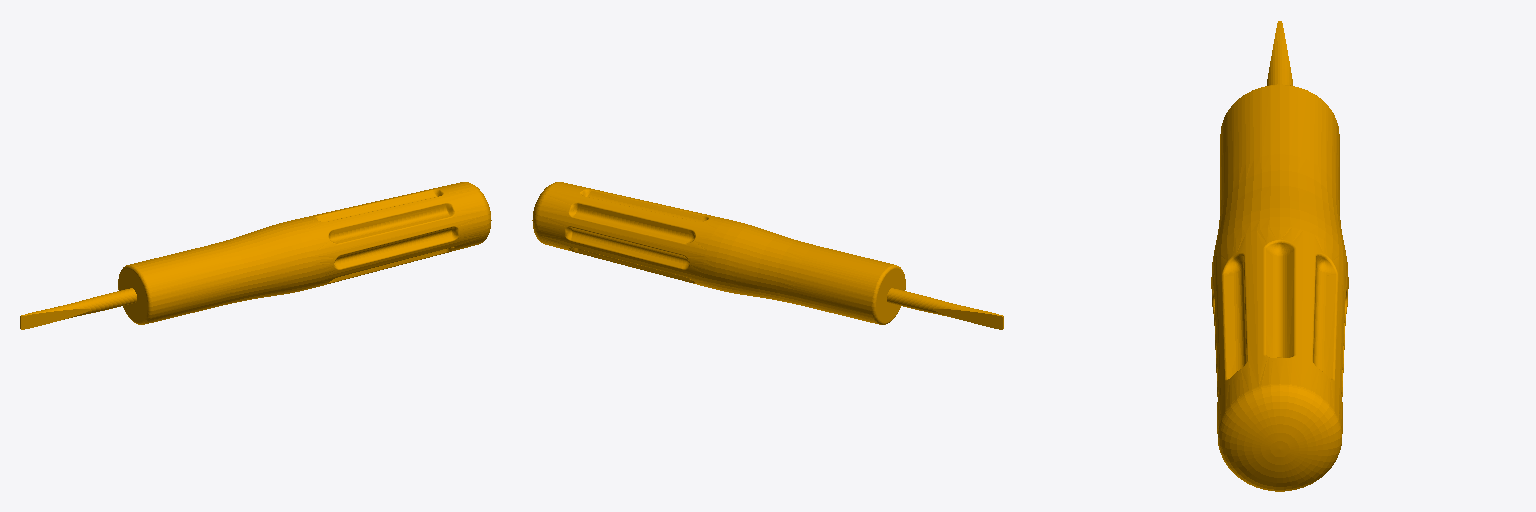
robot.urdf — screwdriver_3_L0.62_T0.59:
<?xml version="1.0" encoding="utf-8"?>
<robot name="screwdriver_3_L0.62_T0.59">
  <link name="screwdriver_3_L0.62_T0.59Link">
    <contact>
      <lateral_friction value="1"/>
    </contact>
    <inertial>
      <origin rpy="0 0 0" xyz="0 0 0"/>
      <mass value="0.0"/>
      <inertia ixx="0" ixy="0" ixz="0" iyy="0" iyz="0" izz="0"/>
    </inertial>
    <visual>
      <origin rpy="0 0 0" xyz="0 0 0"/>
      <geometry>
        <mesh filename="generated_stl/screwdriver/screwdriver_3/screwdriver_3_L0.62_T0.59/screwdriver_3_L0.62_T0.59.stl" scale="0.01 0.01 0.01"/>
      </geometry>
    </visual>
    <collision>
      <origin rpy="0 0 0" xyz="0 0 0"/>
      <geometry>
        <mesh filename="generated_stl/screwdriver/screwdriver_3/screwdriver_3_L0.62_T0.59/screwdriver_3_L0.62_T0.59.stl" scale="0.01 0.01 0.01"/>
      </geometry>
    </collision>
  </link>
</robot>

--- Facts derived from the render (not from the file) ---
Views: 3 orthographic renders of the robot side by side, from view 1: azimuth 30°, elevation 25°; view 2: azimuth 150°, elevation 25°; view 3: azimuth 270°, elevation 25°.
Model screwdriver_3_L0.62_T0.59 with 1 links and 0 joints (none), rooted at screwdriver_3_L0.62_T0.59Link, posed all joints at 0.
Links seen in each view (by area): view 1: screwdriver_3_L0.62_T0.59Link; view 2: screwdriver_3_L0.62_T0.59Link; view 3: screwdriver_3_L0.62_T0.59Link.
Link boxes in pixels (<box>): screwdriver_3_L0.62_T0.59Link: <box>20,182,491,329</box>; screwdriver_3_L0.62_T0.59Link: <box>532,182,1003,329</box>; screwdriver_3_L0.62_T0.59Link: <box>1211,21,1348,491</box>.
Size in the robot's own frame: 0.05 by 0.007 by 0.0066 metres.
Meshes: 1 distinct files referenced, 1 mesh visuals loaded (1 binary STL).